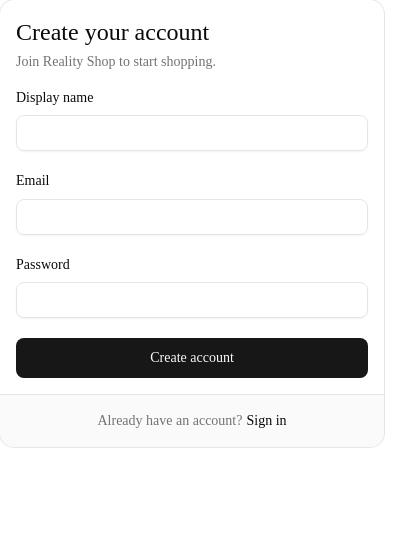
Test: RegisterForm › shows localized field errors for invalid input
Type "invalid-email" into the field labelled "Email".
click(192, 216); type("invalid-email")  # box [16,198,368,234]
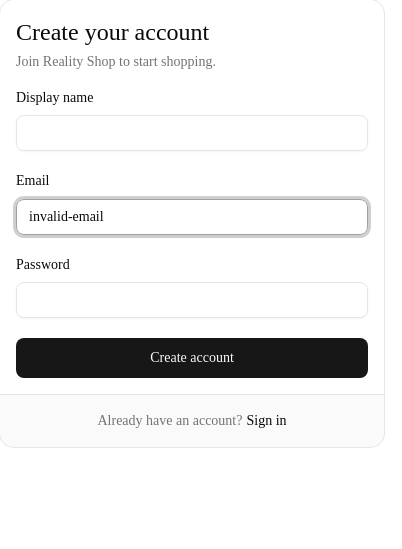
Click the button "Create account".
click(192, 358)  # box [16,338,368,378]
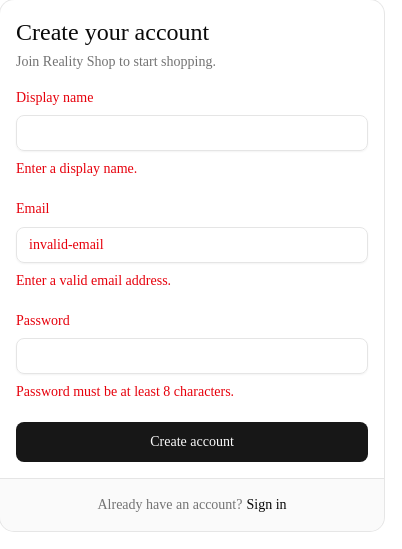
Check: the text "Enter a display name." is shown, box [16,161,137,176]
Check: the text "Enter a valid email address." is shown, box [16,272,171,288]
Check: the text "Password must be at least 8 characters." is shown, box [16,384,234,399]
